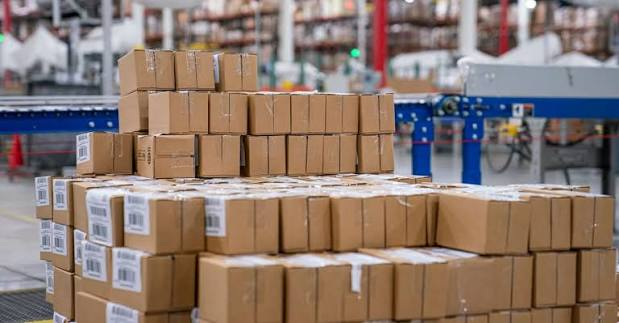box: (216, 195, 276, 246), (471, 193, 529, 244), (211, 263, 257, 317), (291, 197, 333, 251), (341, 195, 383, 243), (172, 53, 225, 91), (531, 189, 567, 244), (576, 197, 611, 245), (397, 193, 429, 243), (208, 95, 249, 127), (136, 49, 166, 86), (223, 50, 249, 88), (301, 93, 324, 132)
